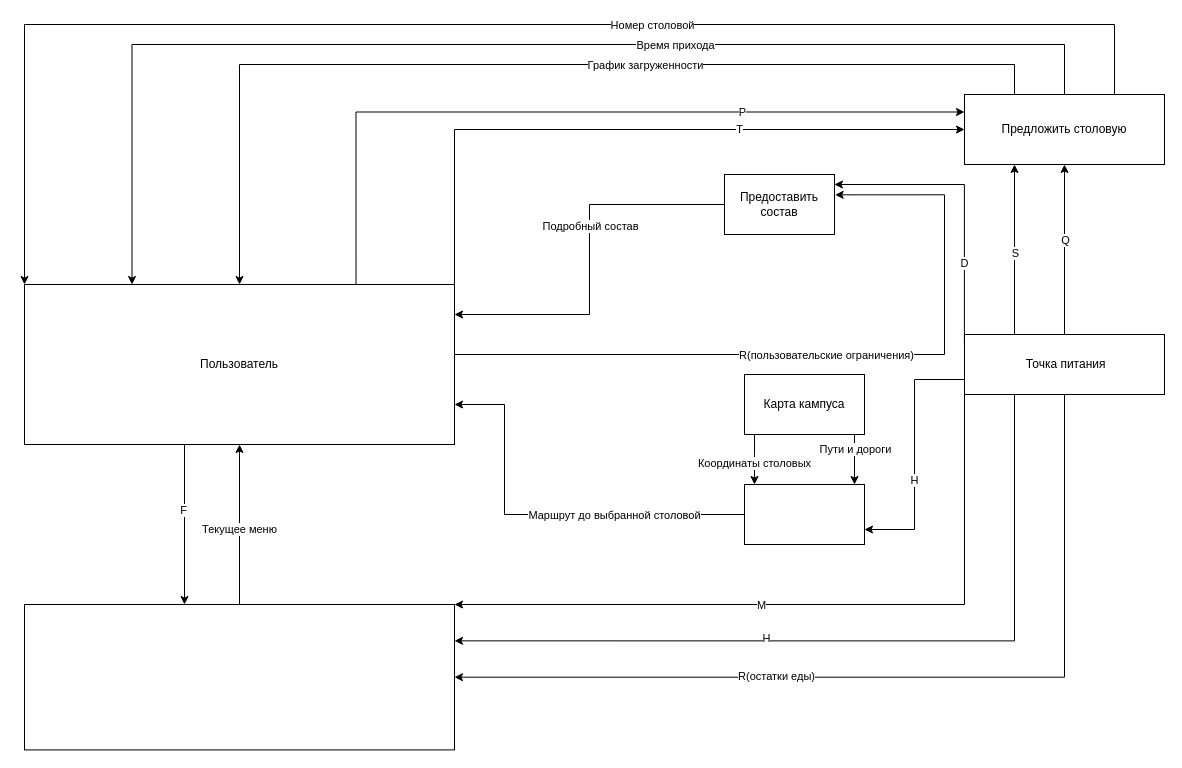
Image size: 1182x768. Some labels were removed from this diagram. The shapes that lost their labels are listed below. From the top down, each one's box as (x1, y1, x2, y2) in pixels, then its label:
(744, 484, 864, 544): Определение местоположение точек питания
(24, 604, 454, 750): Предоставить актуальное меню
